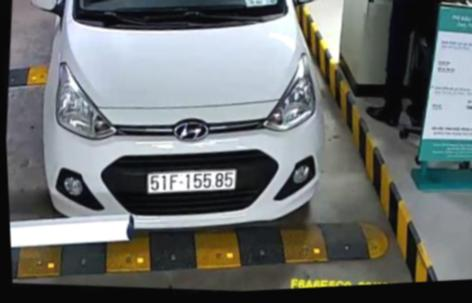License_Plate: (144, 165, 240, 200)
